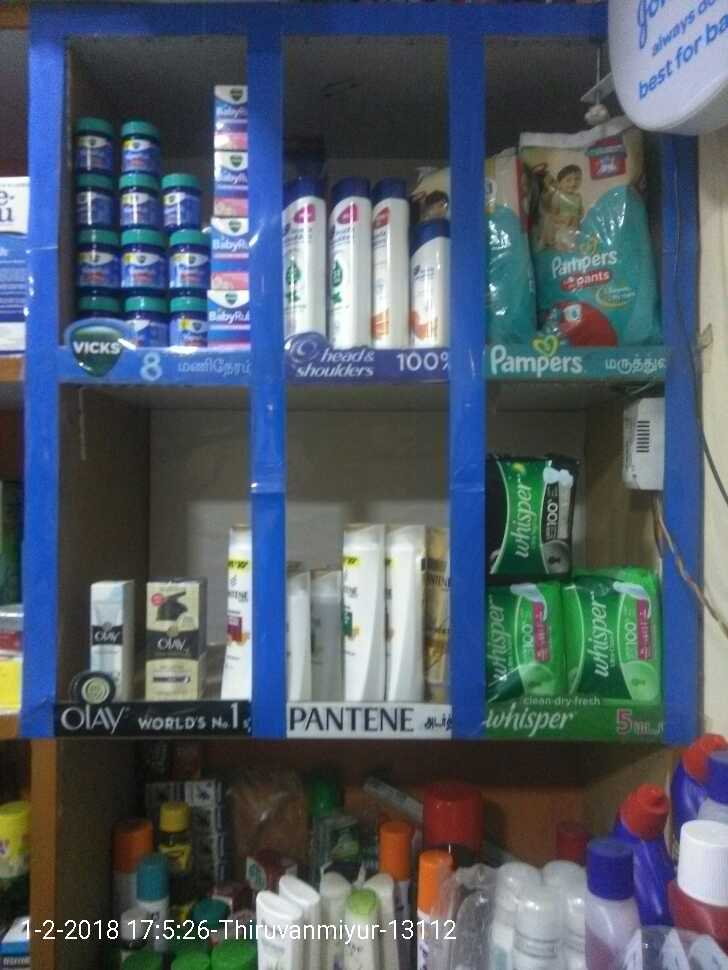vicks: (69, 90, 252, 345)
